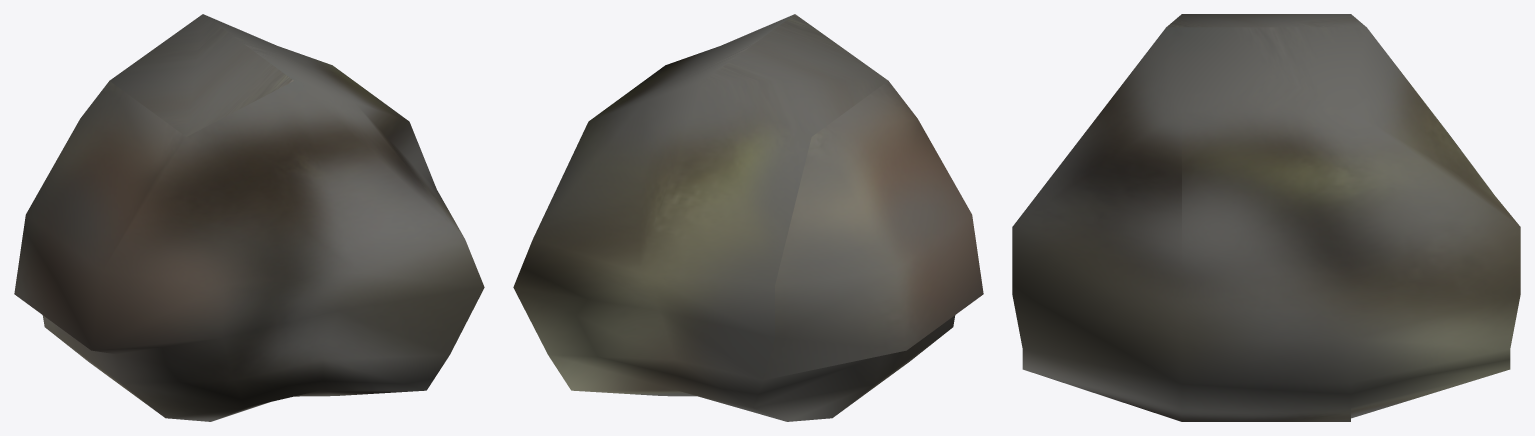
The model's file is Rock03.fbx.
The picture shows the model from 3 angles, left to right: view 1: azimuth 30°, elevation 25°; view 2: azimuth 150°, elevation 25°; view 3: azimuth 270°, elevation 25°; orthographic projection. The views are drawn at different scales.
Visible parts, largest first — view 1: Rock03; view 2: Rock03; view 3: Rock03.
Boxes of the visible parts, x1,y1,x2,y2 form: Rock03: (14, 14, 484, 421); Rock03: (513, 14, 983, 421); Rock03: (1012, 14, 1520, 421).
Size of the model in its own units: 4.03 by 3.56 by 4.49.
Materials: 1 (1 with a texture image).
